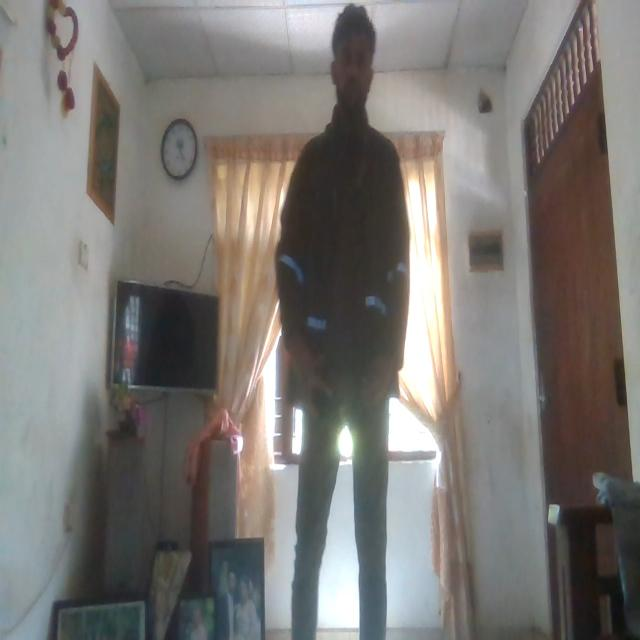Jacket_Wearer: (275, 130, 423, 404)
Person: (280, 8, 414, 634)
